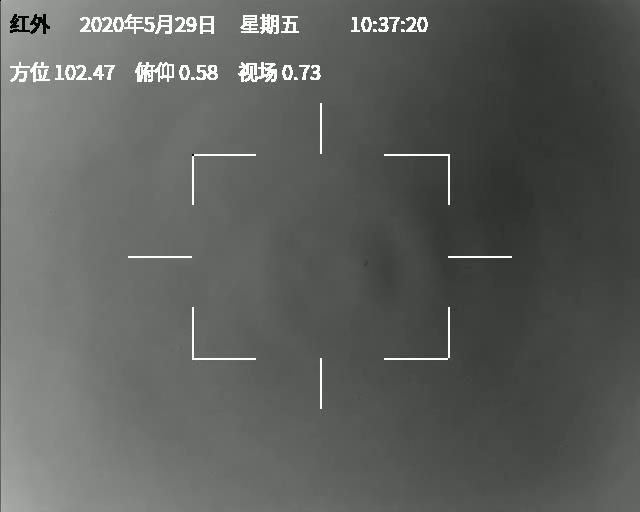uav: (362, 259, 370, 268)
